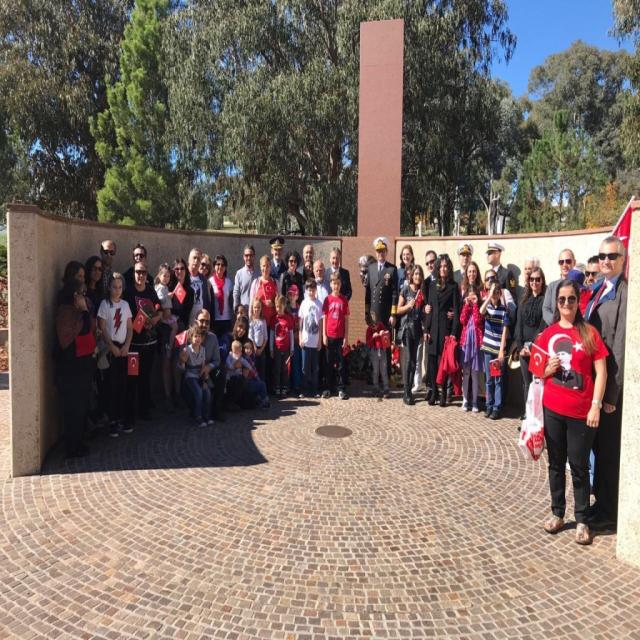body: (516, 276, 613, 548), (582, 236, 627, 530), (52, 272, 101, 461), (121, 259, 165, 423), (95, 270, 136, 440), (421, 252, 464, 408), (157, 257, 195, 415), (478, 266, 518, 412), (515, 265, 549, 421), (364, 243, 400, 389), (248, 253, 284, 397), (511, 255, 541, 422), (218, 314, 268, 414), (478, 278, 510, 420), (395, 264, 426, 406), (319, 269, 352, 401), (178, 322, 216, 430), (396, 263, 426, 397), (177, 308, 222, 392), (296, 274, 325, 400), (484, 240, 520, 341), (458, 283, 484, 414), (268, 290, 296, 399), (540, 248, 578, 328), (418, 249, 456, 322), (363, 309, 393, 400), (61, 259, 98, 327), (154, 263, 179, 362), (208, 253, 235, 344), (232, 242, 263, 318), (185, 247, 213, 330), (283, 284, 301, 394), (247, 296, 269, 383), (121, 242, 156, 293), (323, 245, 353, 303), (301, 259, 334, 308), (224, 339, 253, 394), (278, 248, 305, 306), (84, 254, 104, 312), (561, 260, 591, 298), (97, 238, 117, 292), (396, 243, 416, 297), (459, 259, 485, 299), (198, 252, 215, 312), (240, 336, 262, 382), (454, 241, 475, 288), (356, 252, 380, 292), (268, 235, 288, 280), (583, 253, 604, 290), (295, 244, 315, 278), (301, 258, 317, 299), (229, 302, 248, 322)
